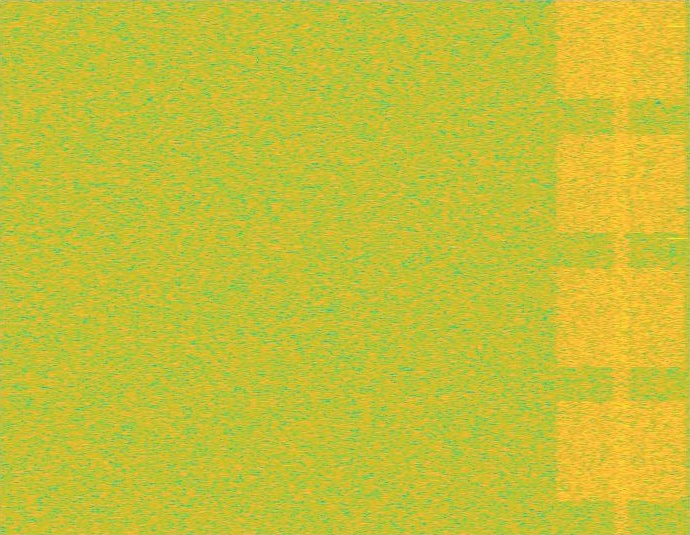5G: (552, 0, 689, 534)
DSSS: (612, 0, 630, 534)
Radar: (670, 0, 684, 534)
